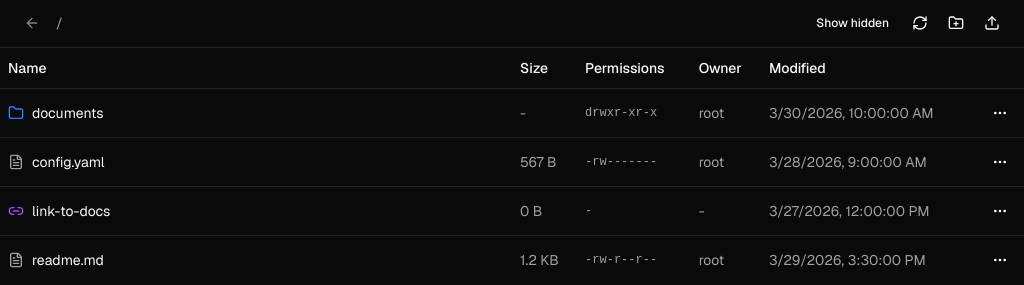
Test case: FileBrowser › navigates into a directory on click
The width and height of the screenshot is (1024, 285).
Expected: the text "documents" is shown, [32,102,104,122]
Click the row with test id "entry-documents": coordinates (512, 112) [0,88,1023,137]
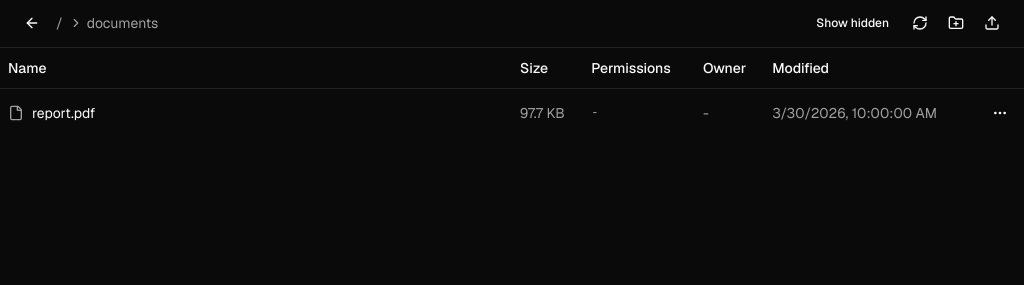
Result: the text "report.pdf" is shown at [32,102,95,122]
